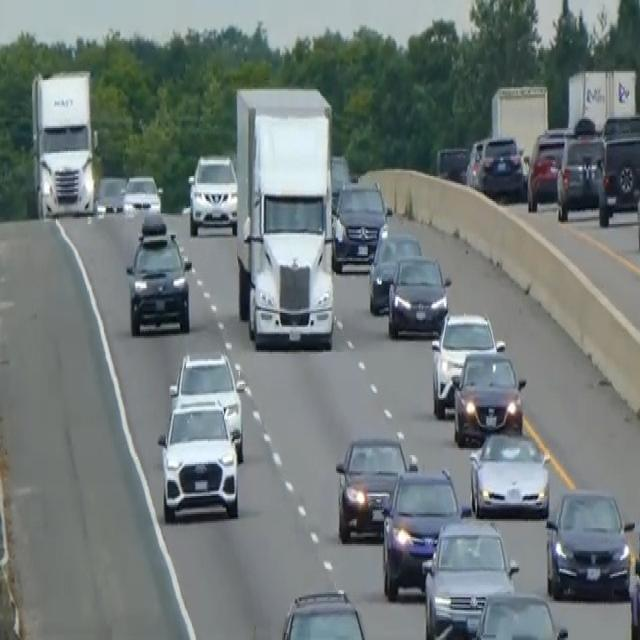car: (421, 516, 519, 638), (380, 464, 465, 599), (544, 485, 634, 601), (157, 398, 239, 521), (334, 432, 417, 542), (168, 350, 244, 459), (430, 309, 505, 418), (468, 427, 551, 519), (451, 347, 526, 446), (331, 178, 389, 272), (387, 252, 450, 338), (472, 588, 569, 638), (597, 112, 639, 226), (367, 226, 421, 314), (279, 587, 368, 638), (555, 130, 605, 220), (187, 151, 238, 237), (524, 126, 573, 212), (473, 133, 524, 199), (122, 172, 162, 214), (435, 142, 470, 183), (95, 172, 126, 214), (464, 137, 486, 187)
jeep: (124, 212, 193, 338)
lorry: (233, 84, 335, 350), (28, 66, 99, 220)
